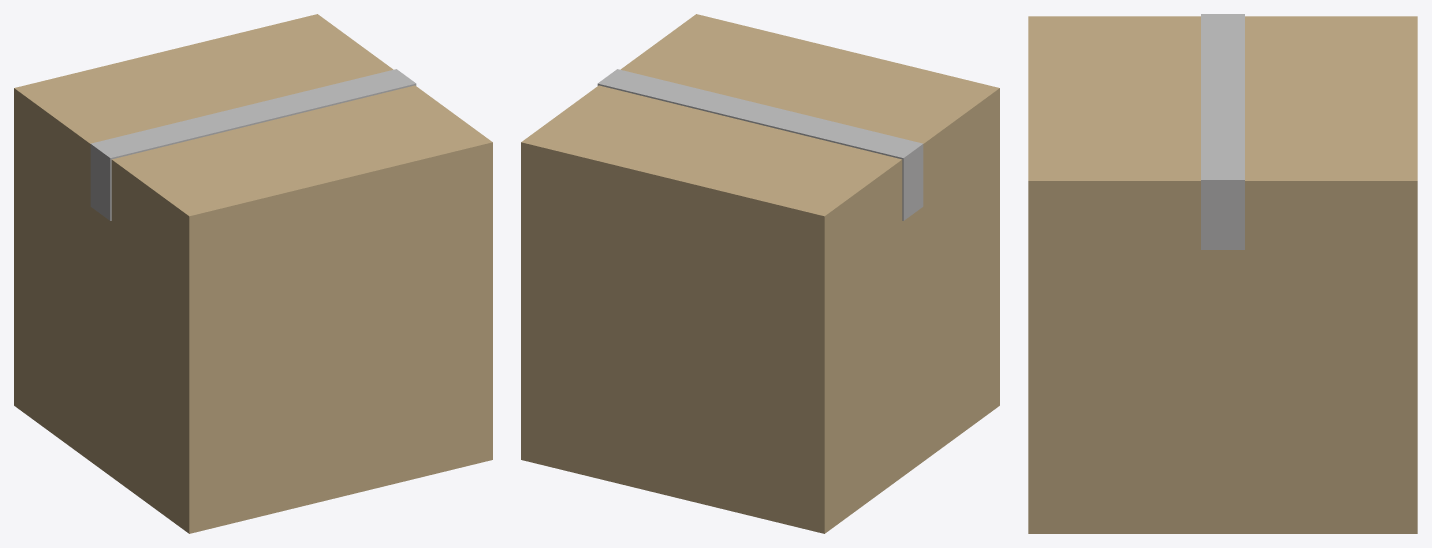
Rendered from blanada19_CardboardBox.fbx.
3 views of the same model, side by side, from view 1: azimuth 30°, elevation 25°; view 2: azimuth 150°, elevation 25°; view 3: azimuth 270°, elevation 25° (orthographic). The views are drawn at different scales.
Visible parts, largest first — view 1: box; view 2: box; view 3: box.
Part boxes in pixels (x1=…): box: x1=14, y1=14, x2=492, y2=533; box: x1=521, y1=14, x2=999, y2=533; box: x1=1028, y1=14, x2=1417, y2=533.
Size of the model in its own units: 1.01 by 1 by 1.
